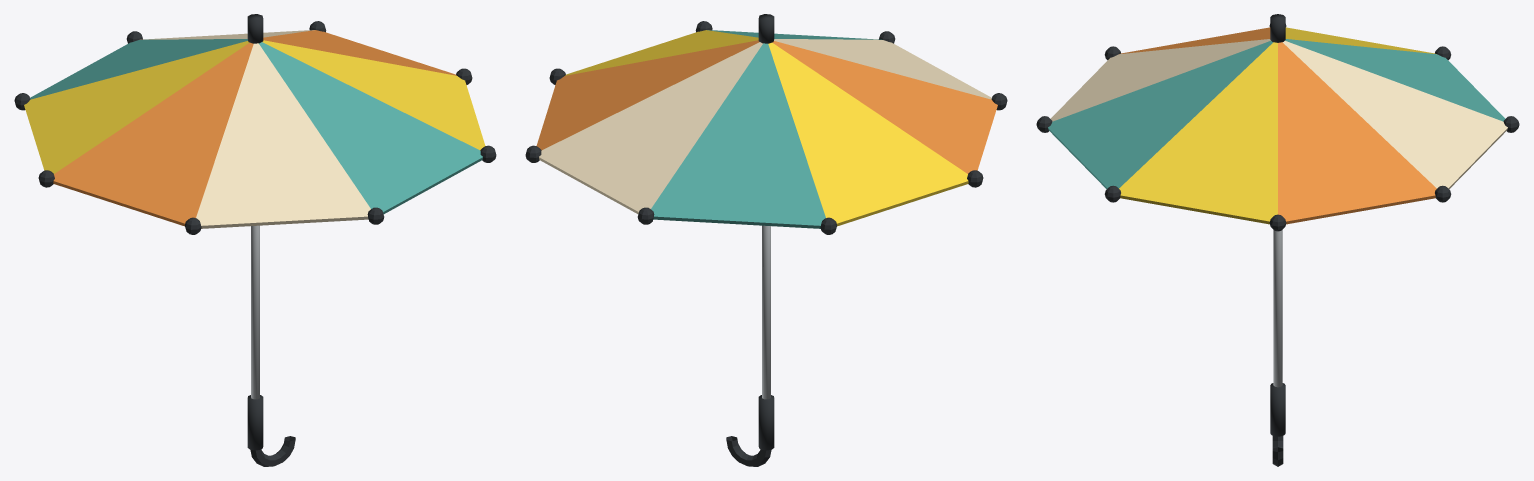
Rendered from Umbrella.fbx.
3 renders of one model, left to right at view 1: azimuth 30°, elevation 25°; view 2: azimuth 150°, elevation 25°; view 3: azimuth 270°, elevation 25°, orthographic. The views are drawn at different scales.
Parts seen in each view (by area): view 1: Umbrella; view 2: Umbrella; view 3: Umbrella.
Part boxes in pixels (<box>): Umbrella: <box>14,14,496,466</box>; Umbrella: <box>525,14,1007,466</box>; Umbrella: <box>1036,14,1519,466</box>.
Bounding box in the file's own units: 137 × 137 × 137.
